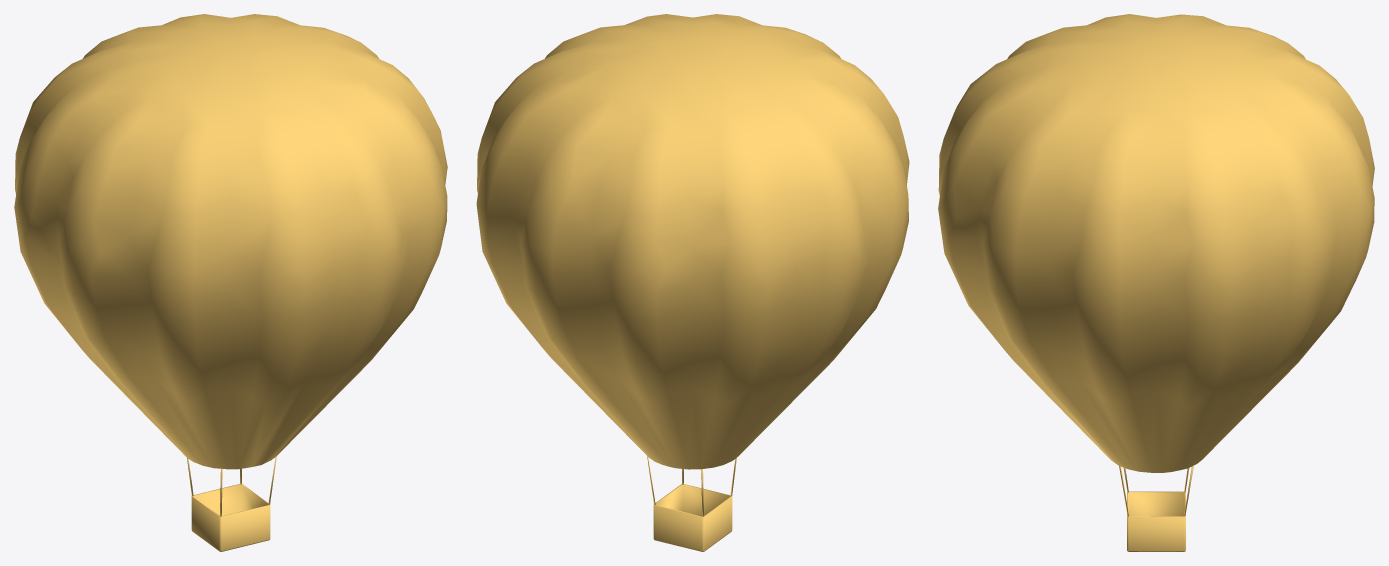
Rendered from BALLOON.FBX.
The picture shows the model from 3 angles, left to right: view 1: azimuth 30°, elevation 25°; view 2: azimuth 150°, elevation 25°; view 3: azimuth 270°, elevation 25°; orthographic projection.
Visible parts, largest first — view 1: BALLOON; view 2: BALLOON; view 3: BALLOON.
Part boxes in pixels (x1,y1,x2,y2): BALLOON: [14, 14, 447, 551]; BALLOON: [476, 14, 909, 551]; BALLOON: [938, 14, 1374, 551].
Size of the model in its own units: 113 by 140 by 113.
